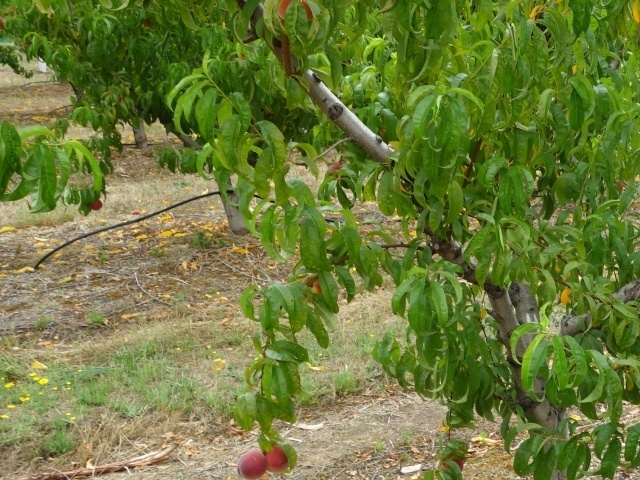peach: (259, 443, 294, 478), (234, 448, 271, 479), (300, 272, 324, 303), (273, 1, 300, 23)
